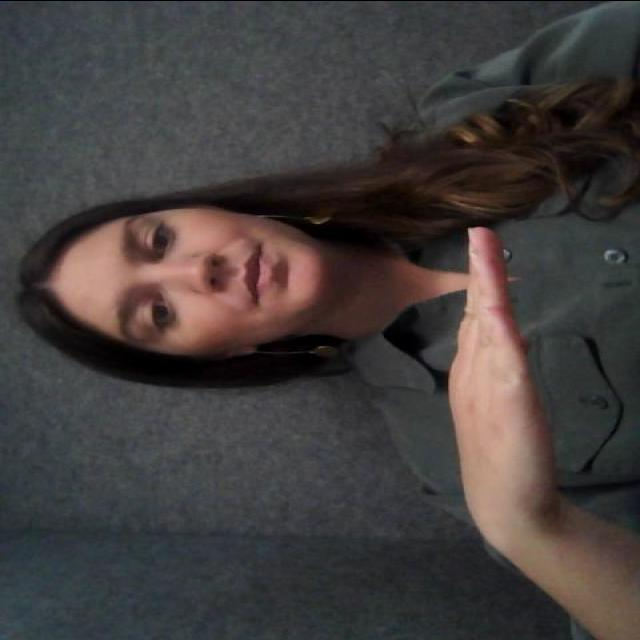Paper: (423, 205, 573, 461)
